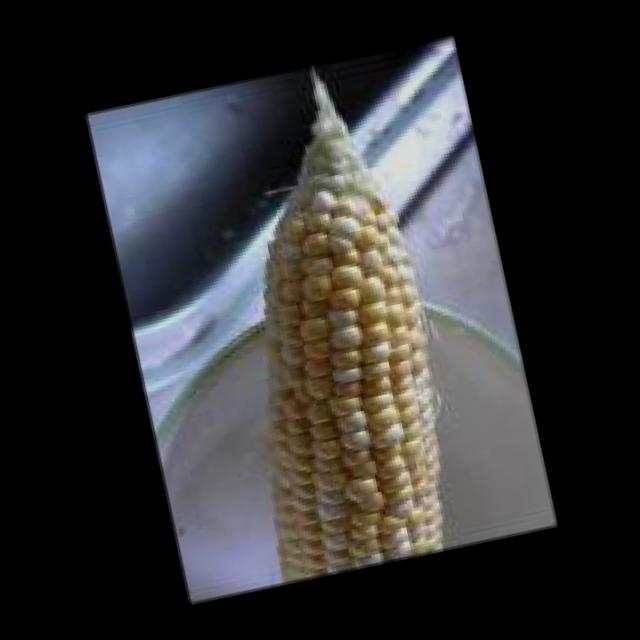corn: (254, 76, 444, 583)
